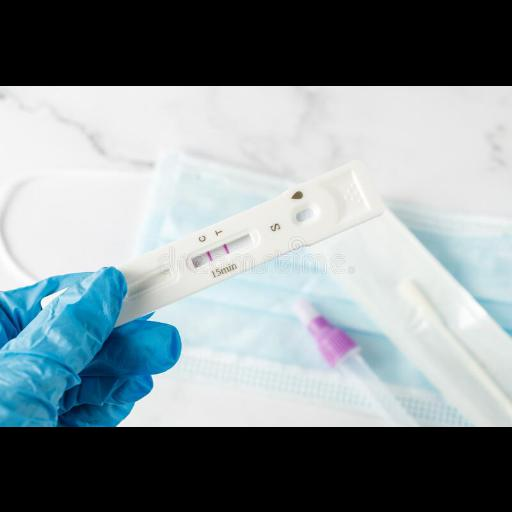Pos: (118, 157, 387, 315)
